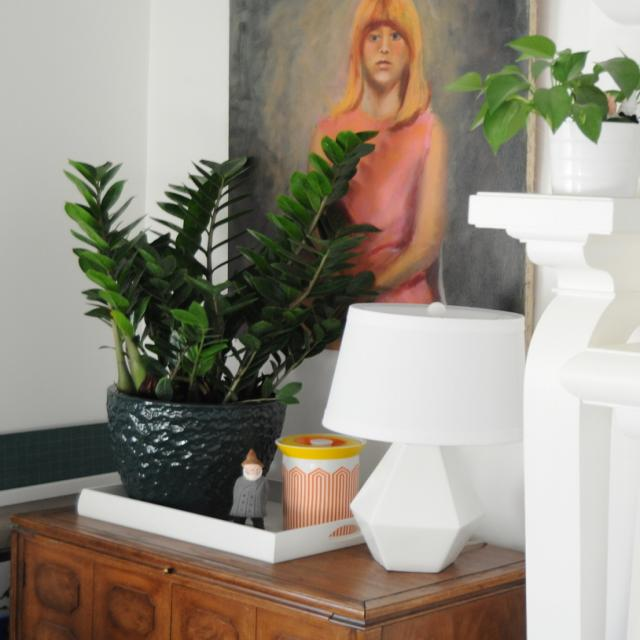desk: (0, 504, 553, 636)
